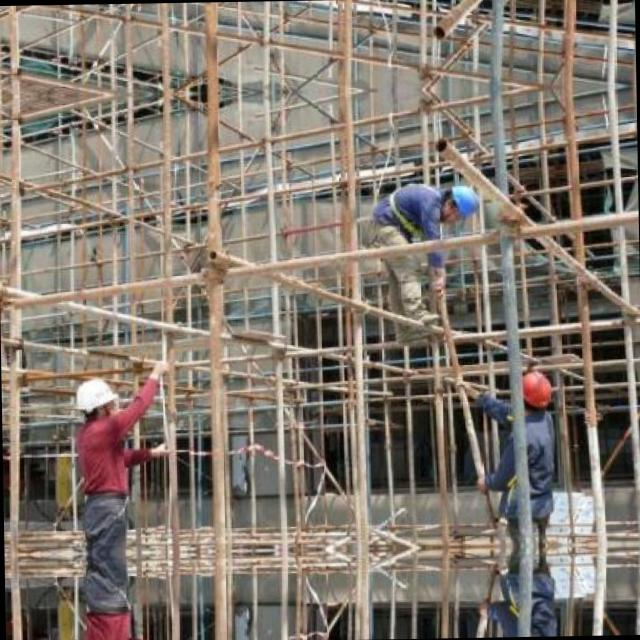helmet: (73, 375, 118, 427), (430, 182, 483, 222), (519, 366, 551, 408)
